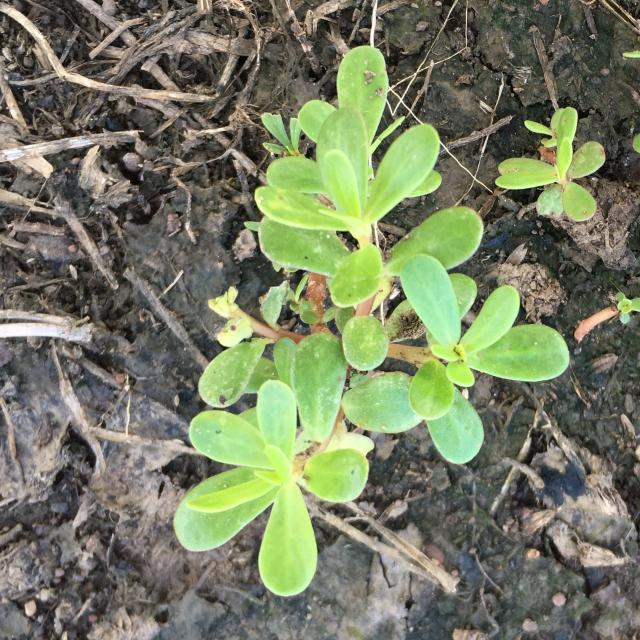Purslane: (174, 45, 570, 596), (496, 106, 606, 222)
